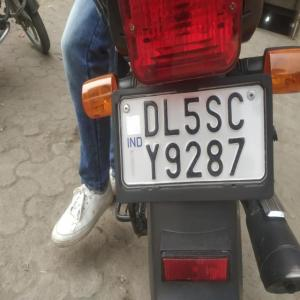Plate: (120, 83, 259, 185)
